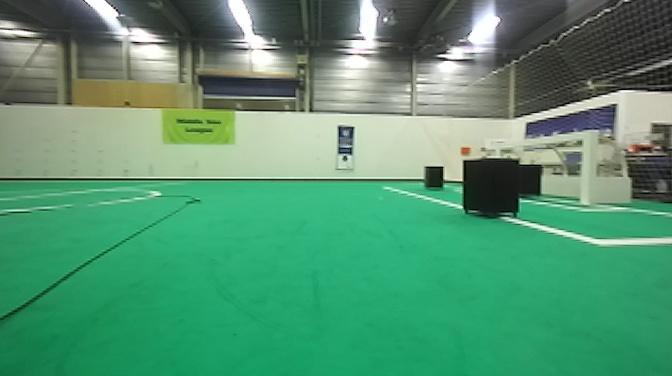goalpost: (580, 133, 593, 205)
